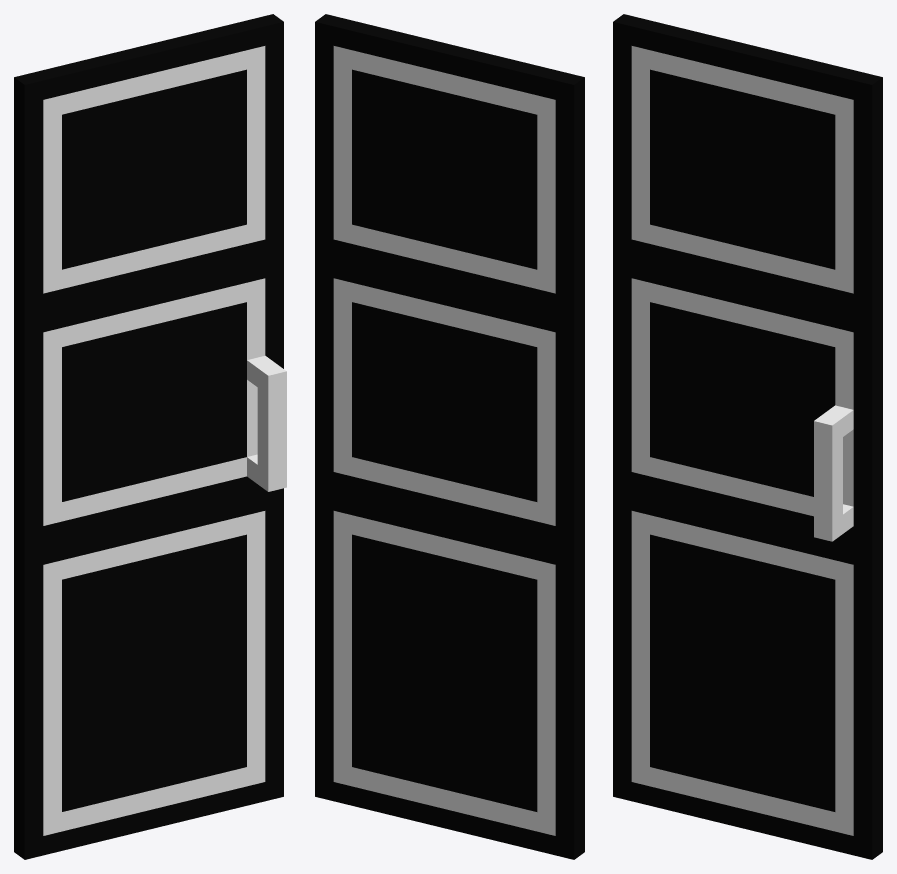
The model's file is cupboardDoor1.obj.
The picture shows the model from 3 angles, left to right: view 1: azimuth 30°, elevation 25°; view 2: azimuth 150°, elevation 25°; view 3: azimuth 330°, elevation 25°; orthographic projection.
Bounding box in the file's own units: 1.4 × 4 × 0.3.
